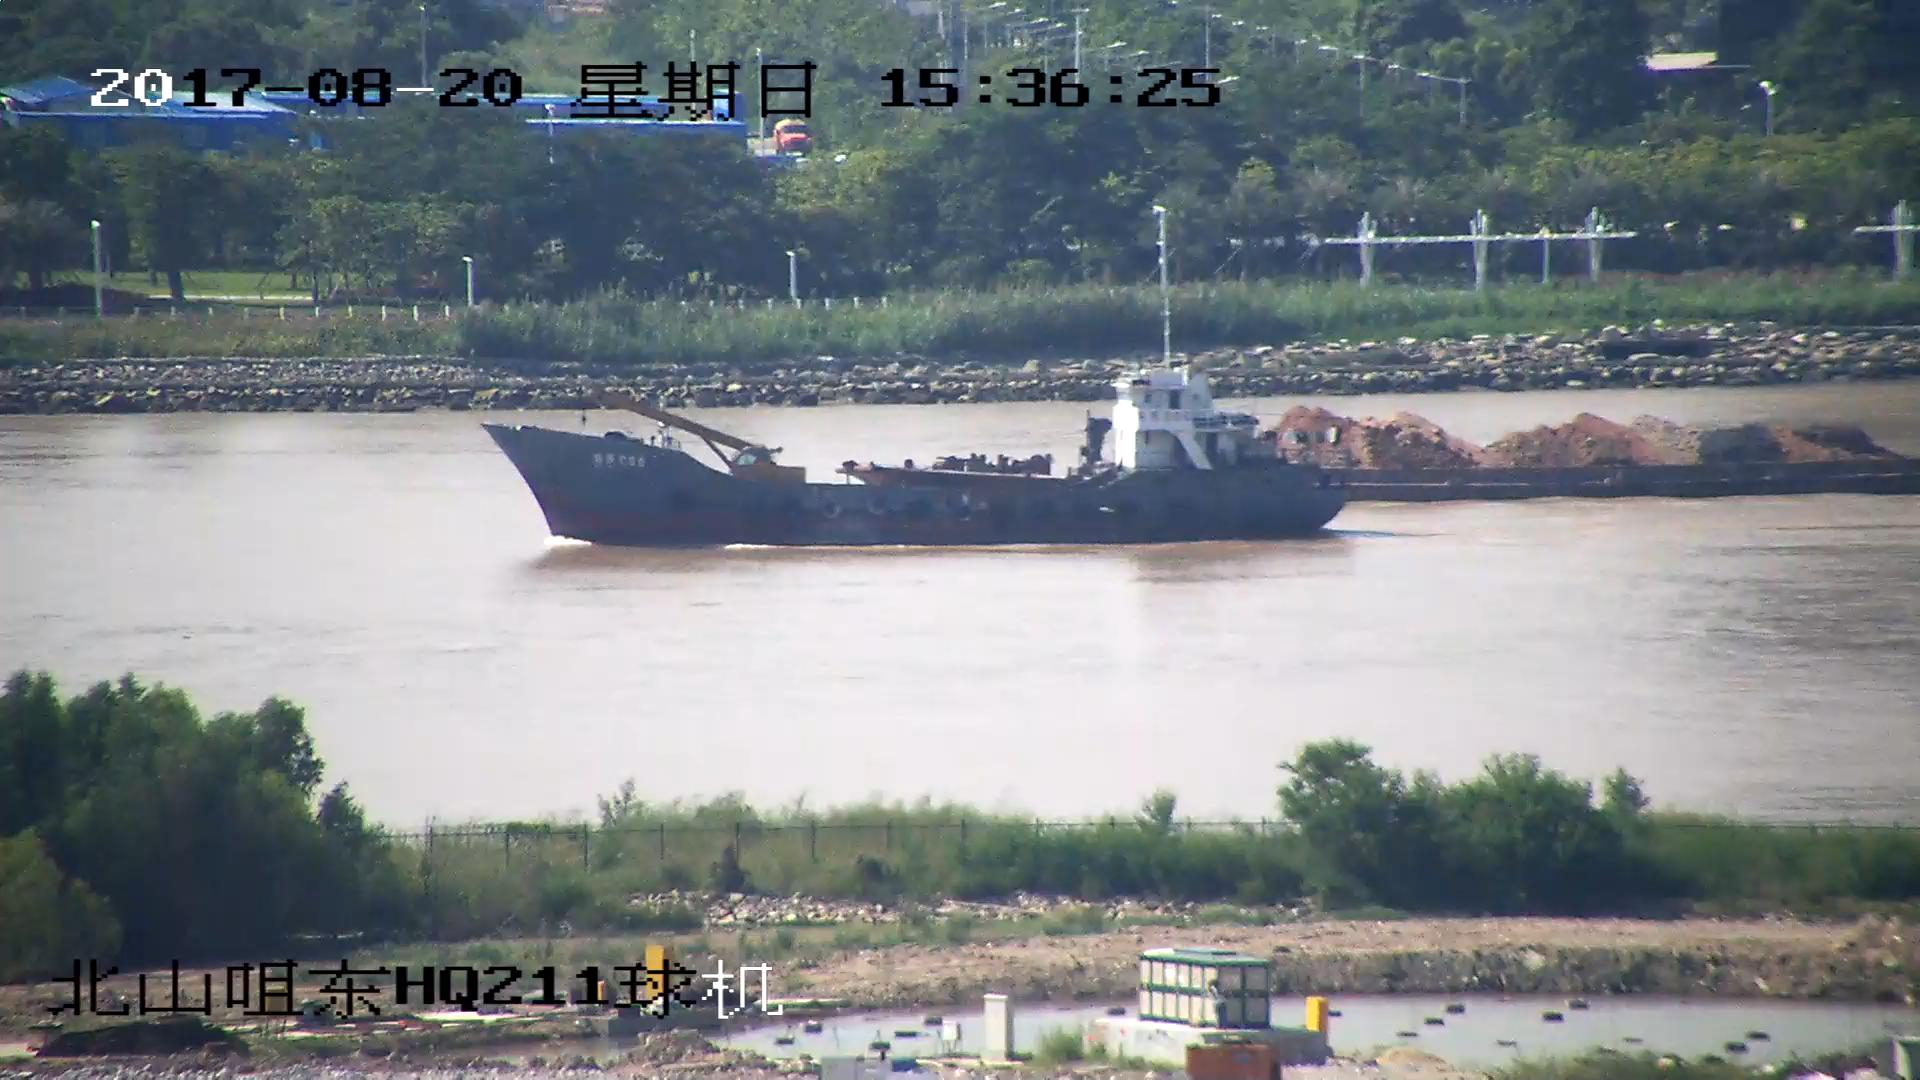general cargo ship: (476, 258, 1340, 546)
ore carrier: (835, 399, 1920, 499)
